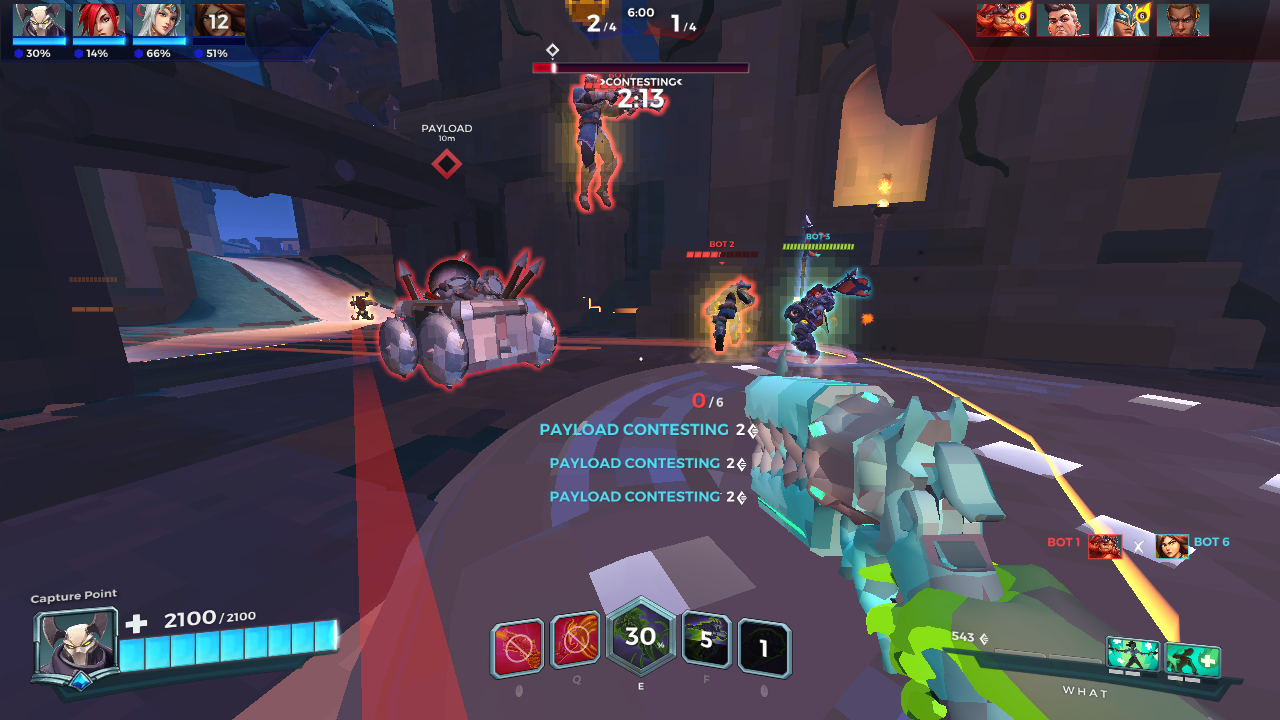model: (571, 72, 629, 210), (704, 268, 758, 359)
